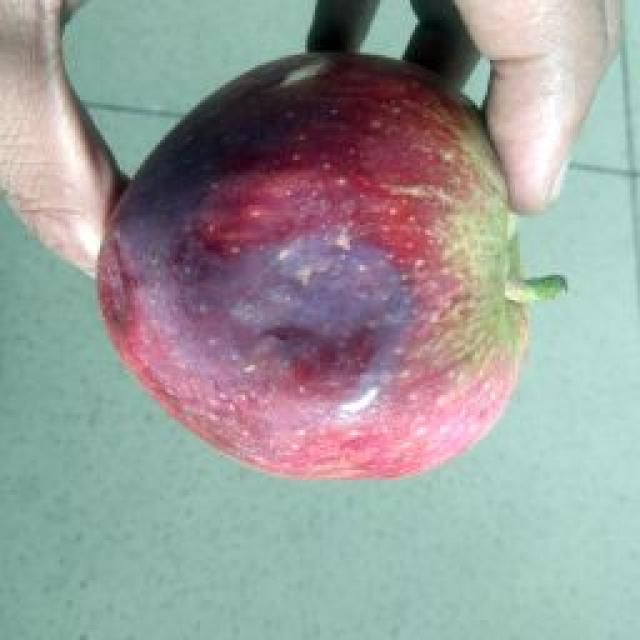Bad_Apple: (98, 54, 528, 478)
